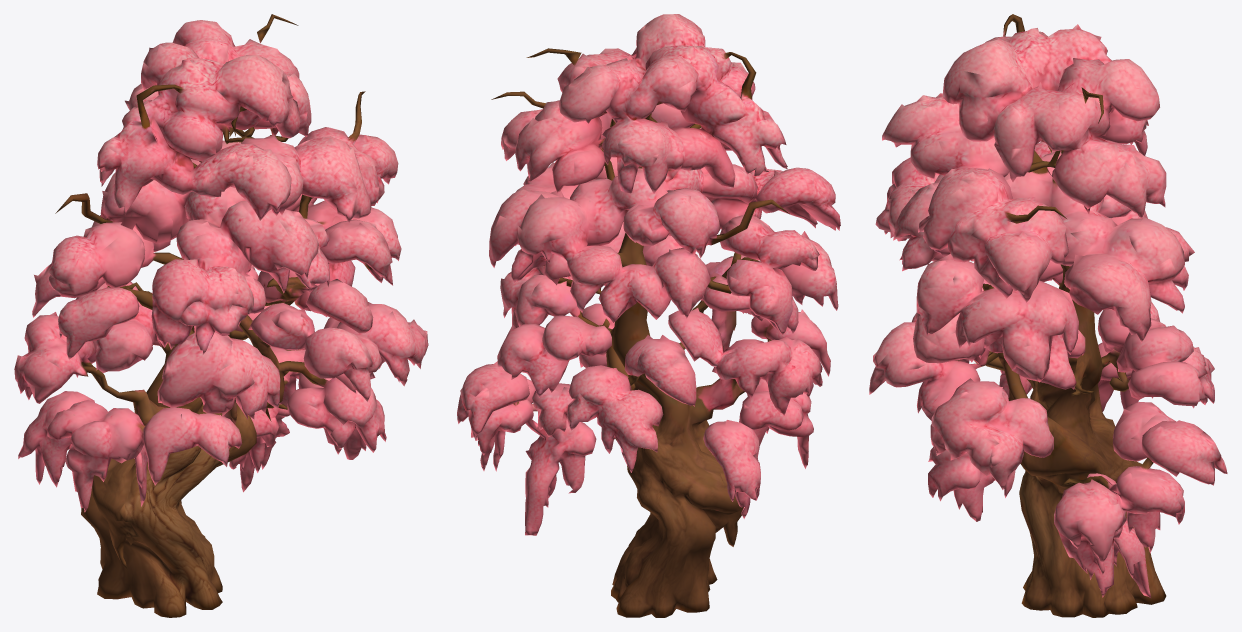
The model's file is cherry_blossom.glb.
3 views of the same model, side by side, from view 1: azimuth 30°, elevation 25°; view 2: azimuth 150°, elevation 25°; view 3: azimuth 270°, elevation 25° (orthographic). The views are drawn at different scales.
Parts seen in each view (by area): view 1: tripo_node_716b9f31-51b8-4505-a5c4-a9e038d5e362; view 2: tripo_node_716b9f31-51b8-4505-a5c4-a9e038d5e362; view 3: tripo_node_716b9f31-51b8-4505-a5c4-a9e038d5e362.
Boxes of the visible parts, x1,y1,x2,y2 form: tripo_node_716b9f31-51b8-4505-a5c4-a9e038d5e362: (14, 14, 428, 617); tripo_node_716b9f31-51b8-4505-a5c4-a9e038d5e362: (457, 14, 840, 617); tripo_node_716b9f31-51b8-4505-a5c4-a9e038d5e362: (869, 14, 1227, 617).
Bounding box in the file's own units: 0.6675 × 0.9734 × 0.5489.
1 material, 1 textured.
